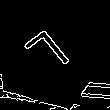L_SE: (21, 27, 79, 85)
